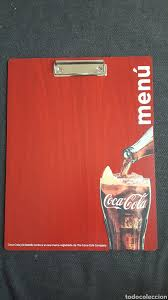coke: (89, 120, 156, 249)
